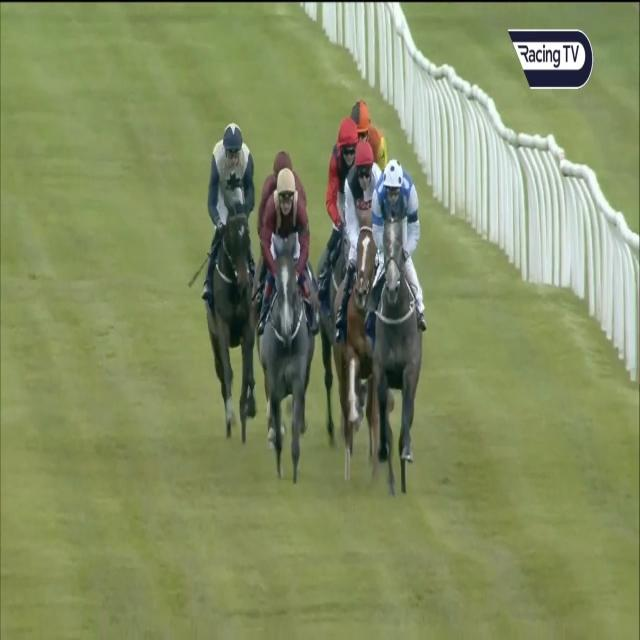horses-racing: (203, 123, 259, 460), (370, 159, 425, 501), (259, 170, 313, 490), (259, 150, 315, 415), (317, 121, 363, 434), (345, 139, 385, 492), (338, 94, 401, 188)
